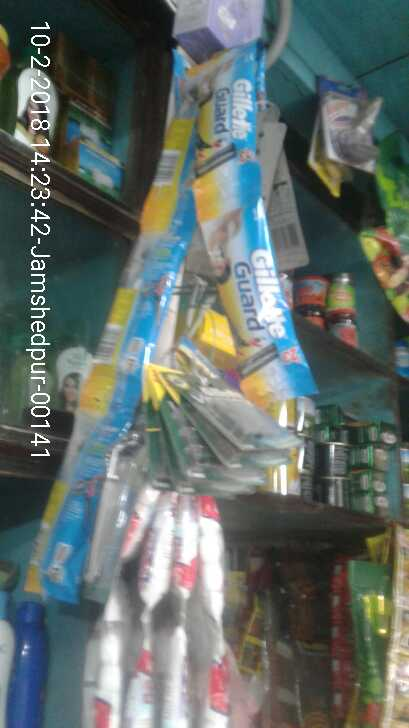gillette: (200, 160, 320, 407), (198, 57, 271, 160)
